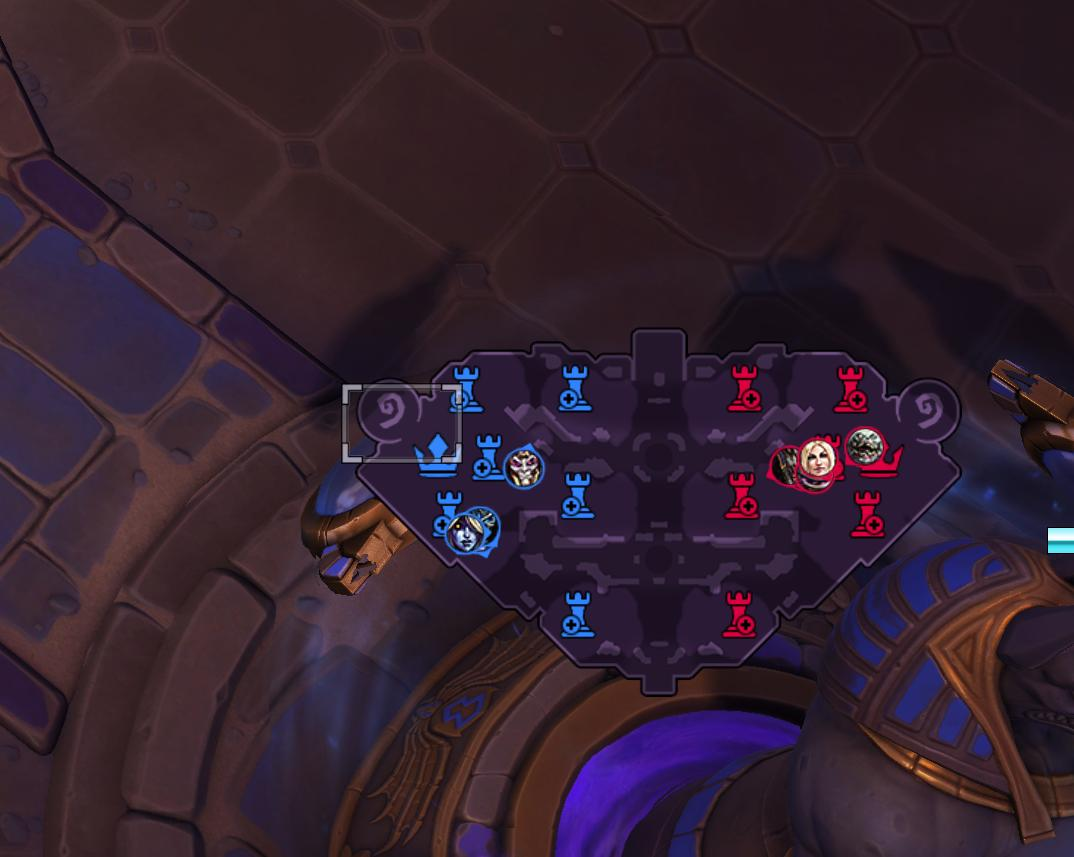blue player: (448, 506, 501, 556), (504, 446, 547, 490)
red player: (768, 433, 845, 496), (798, 436, 842, 489), (768, 444, 805, 491), (846, 426, 885, 466)
